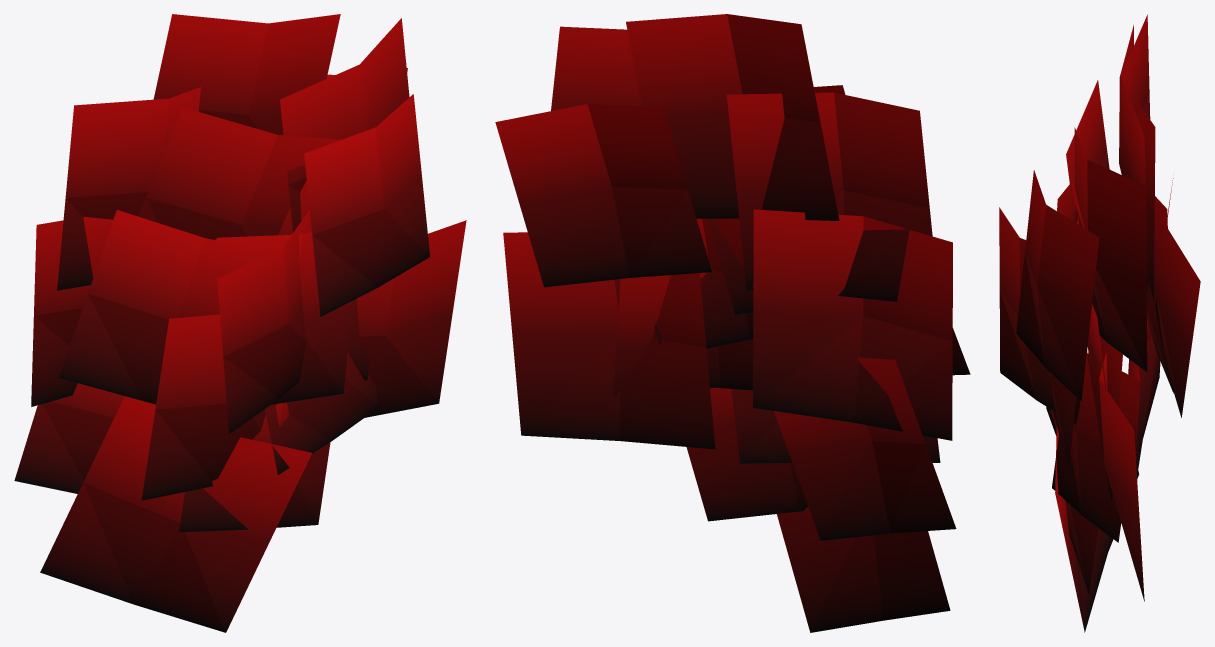
Rendered from IvyBend01.fbx.
3 views of the same model, side by side, from view 1: azimuth 30°, elevation 25°; view 2: azimuth 150°, elevation 25°; view 3: azimuth 270°, elevation 25° (orthographic). The views are drawn at different scales.
Visible parts, largest first — view 1: transform52; view 2: transform52; view 3: transform52.
Part boxes in pixels (<box>): transform52: <box>14,14,466,632</box>; transform52: <box>495,14,970,632</box>; transform52: <box>999,14,1200,632</box>.
Size of the model in its own units: 145 by 189 by 56.78.
